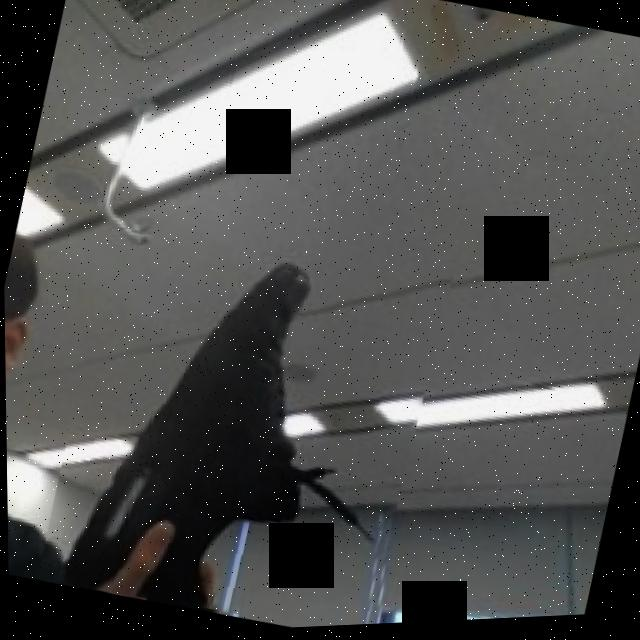shoe: (30, 194, 457, 639)
